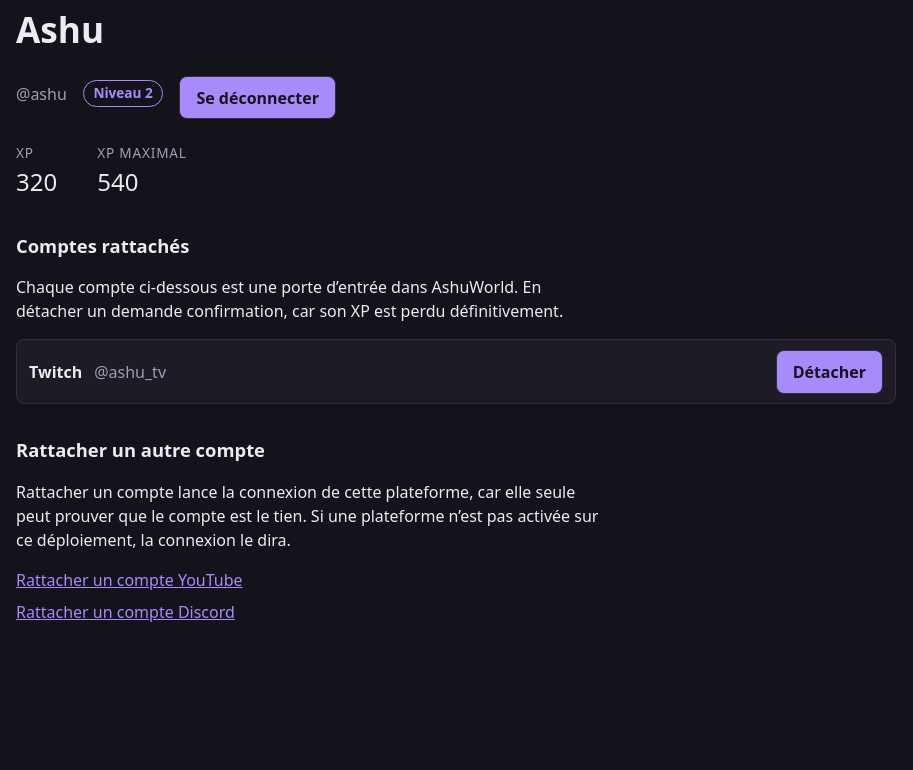
Test case: Account, signed in › states plainly that detaching forfeits the XP for good and that the level stays
What coordinates should you click on to do the following:
click the button with aria-label "détacher le compte twitch ashu_tv"
I would click on:
 (829, 372)
Its box is [776,350,883,394].
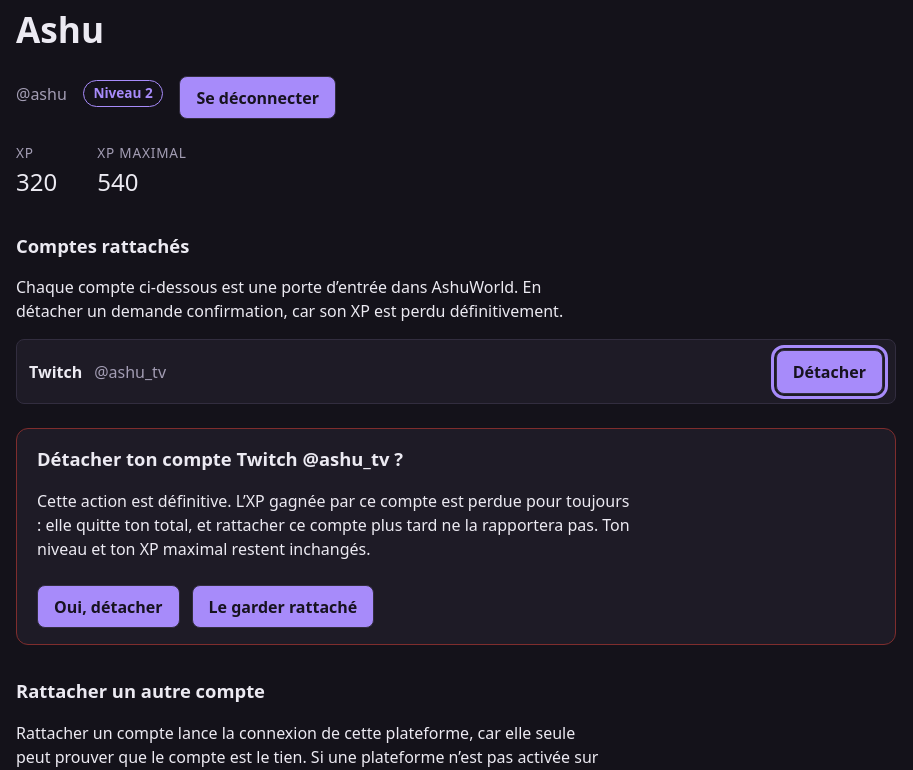
Expected: the text "ton niveau et ton xp maximal restent inchangés" is shown, [37,490,630,560]
What coordinates should you click on to do the following:
click the button "Le garder rattaché"
I would click on:
 (283, 607)
Its box is [192,585,374,628].
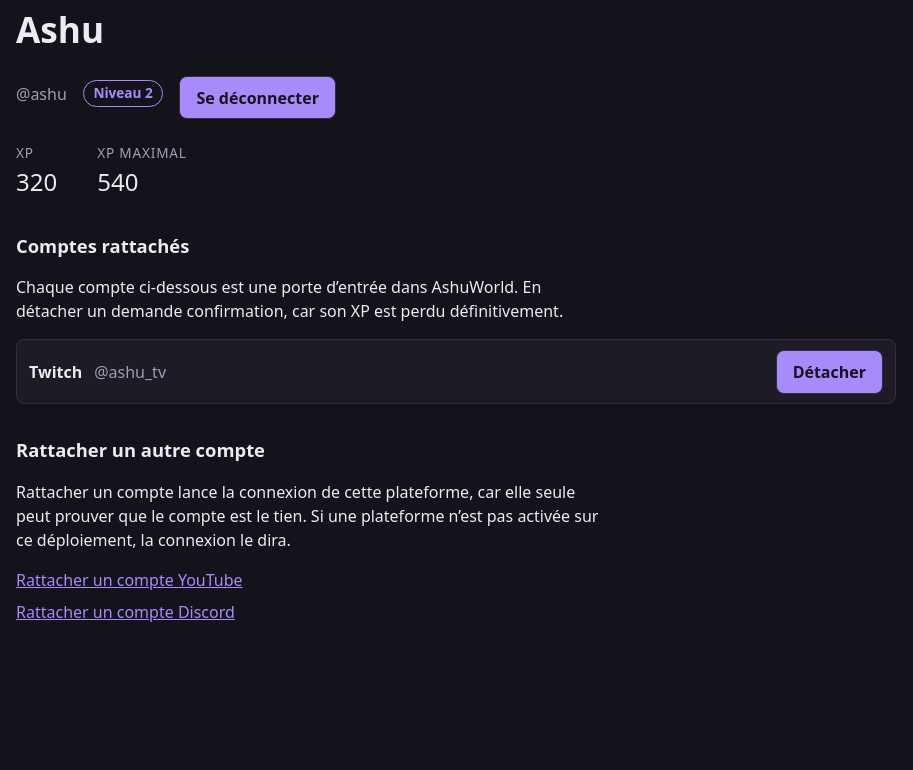
Expected: the heading "Détacher ton compte Twitch" is gone
